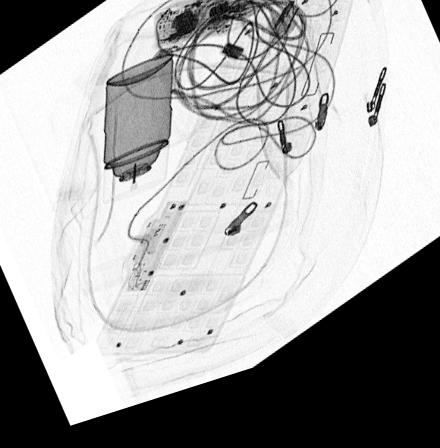Sprayer: (101, 61, 172, 210)
